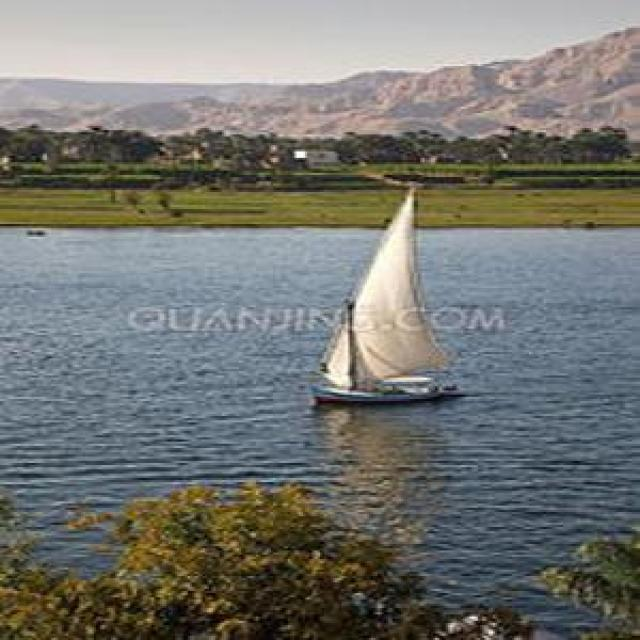sailboat: (312, 170, 472, 408)
